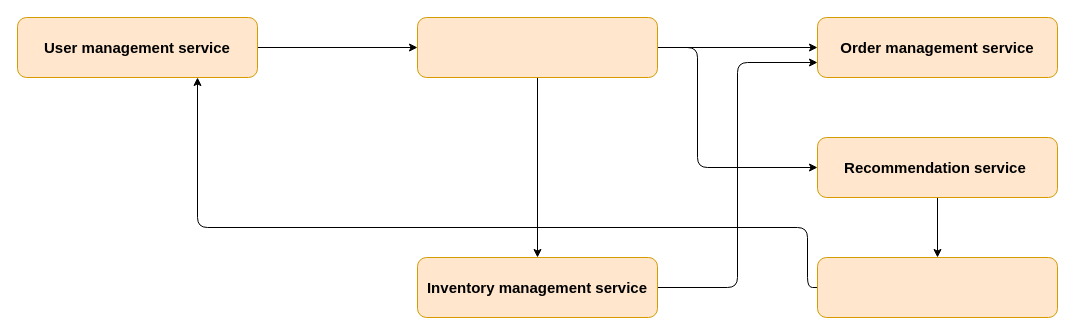
Some shapes in this 1075 by 335 pixel diagram are drawn without their labels. Here are the shapes that lost their labels. From the top down, the centre of each, then its label:
At [537,47]: "Book Catalog service".
At [937,287]: "Notification service".
